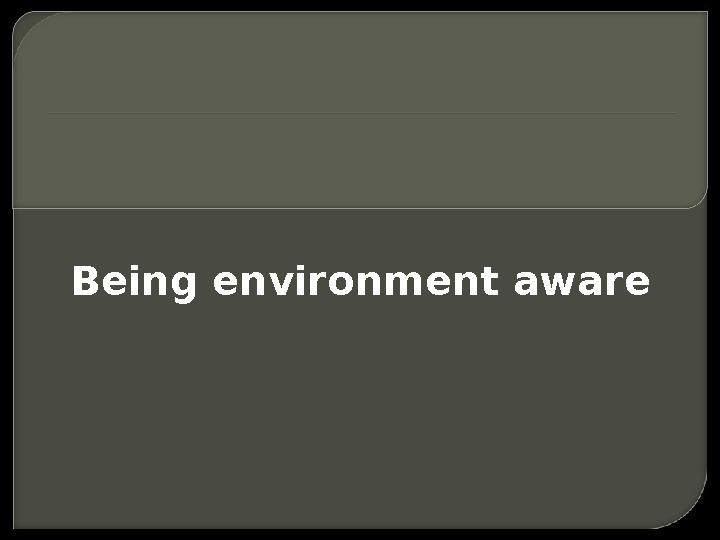title: (63, 242, 661, 305)
